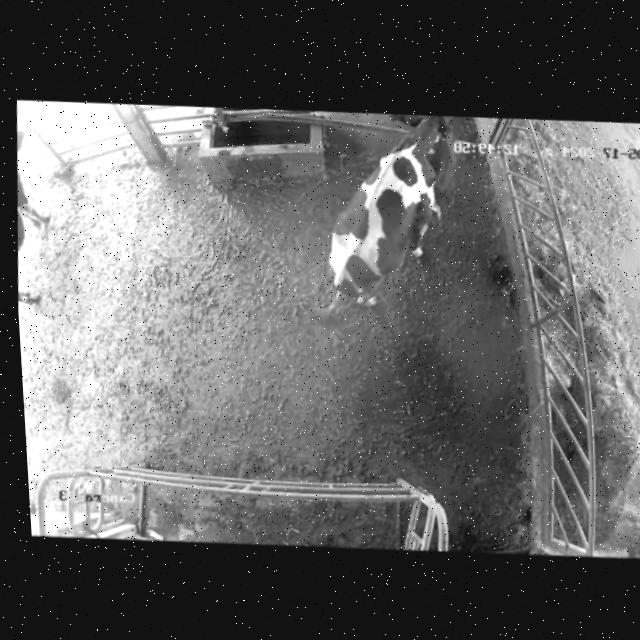ride: (299, 111, 480, 336)
stand: (7, 124, 68, 320)
